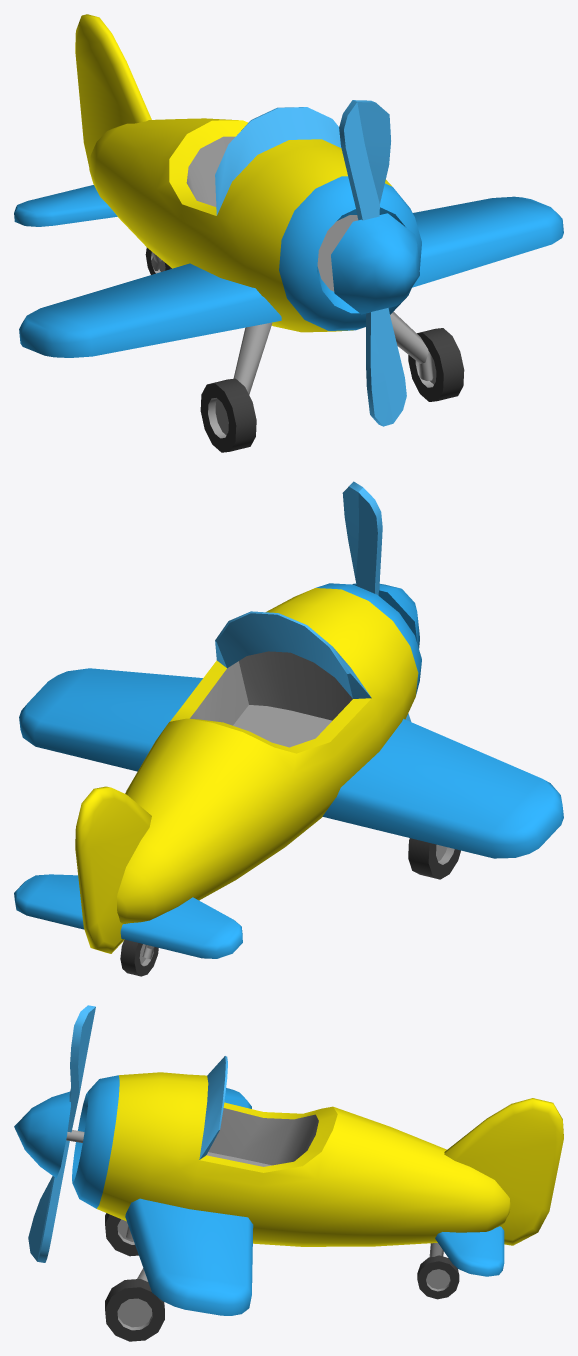
File: Cake_ThemeToys_I.FBX
The picture shows the model from 3 angles, top to bottom: view 1: azimuth 30°, elevation 25°; view 2: azimuth 150°, elevation 25°; view 3: azimuth 270°, elevation 25°; orthographic projection. The views are drawn at different scales.
Parts seen in each view (by area): view 1: Cake_ThemeToys_I; view 2: Cake_ThemeToys_I; view 3: Cake_ThemeToys_I.
Boxes of the visible parts, bbox=[...] form: Cake_ThemeToys_I: bbox=[14, 14, 563, 452]; Cake_ThemeToys_I: bbox=[14, 481, 563, 976]; Cake_ThemeToys_I: bbox=[14, 1005, 563, 1341].
Bounding box in the file's own units: 77681 × 49108 × 84927.
